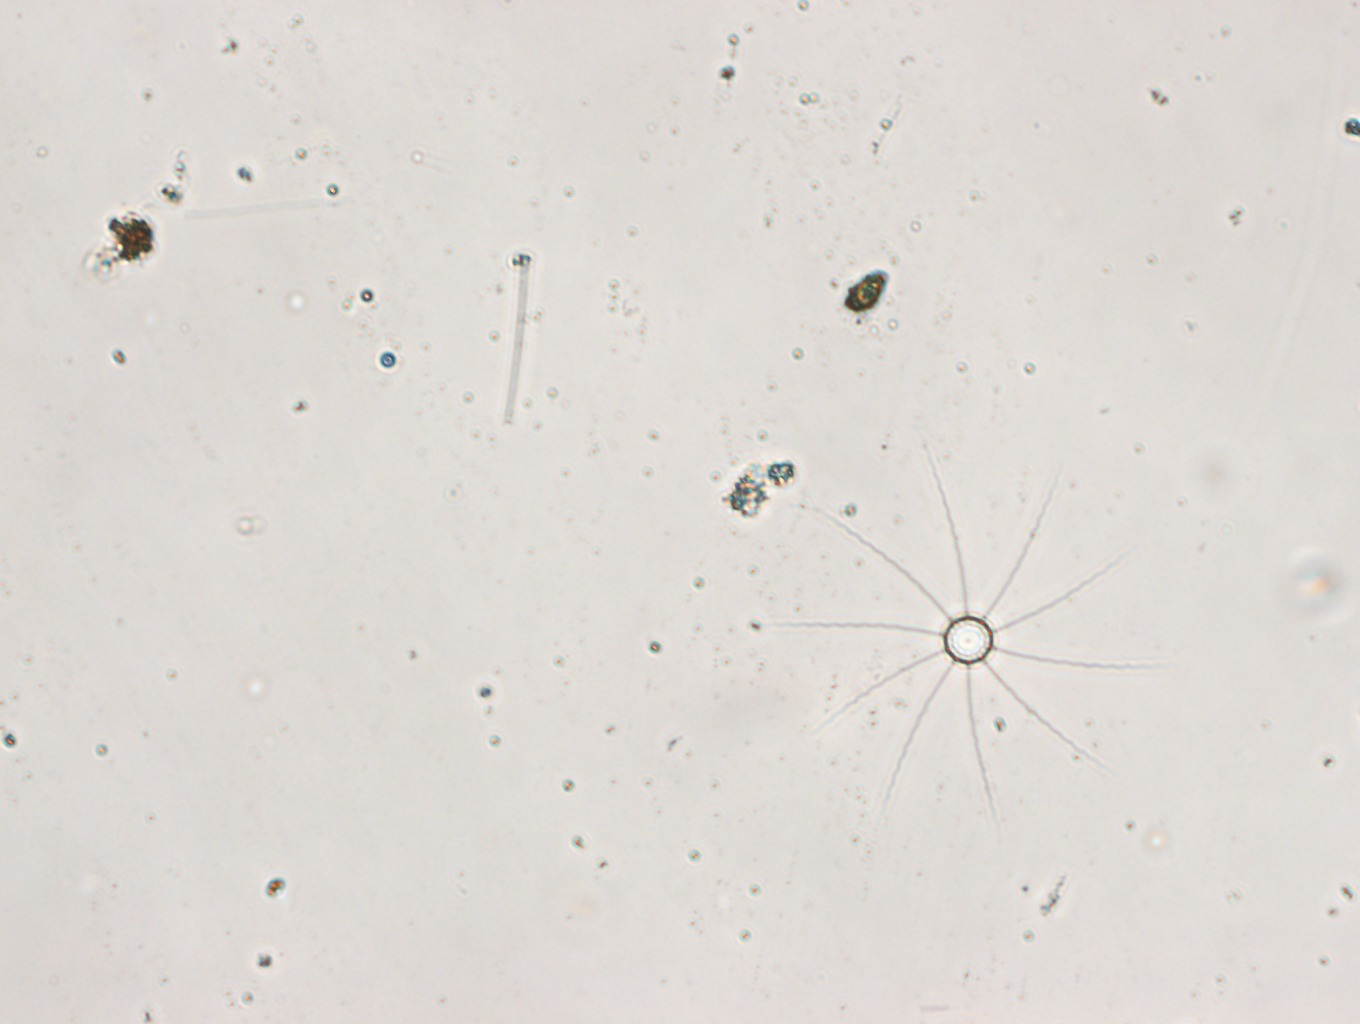bacteriastrum: (794, 470, 1133, 813)
